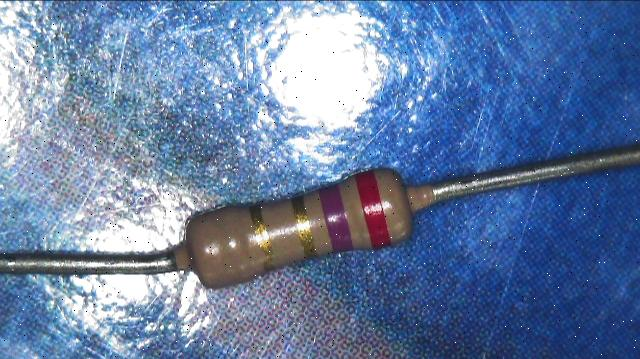gold: (293, 195, 314, 256), (252, 205, 272, 267)
red: (355, 169, 391, 248)
resistor: (159, 147, 440, 303)
violet: (318, 182, 354, 251)
